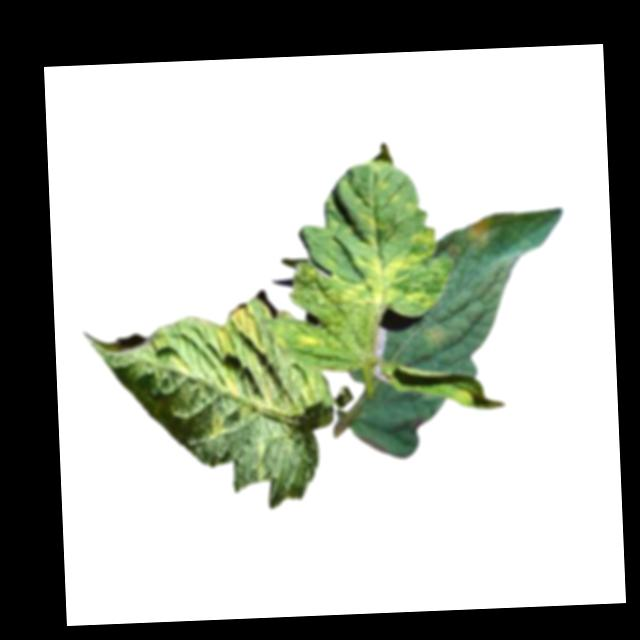Leaf_Mold: (325, 152, 449, 319), (210, 300, 286, 401), (463, 214, 492, 247), (292, 324, 326, 350), (422, 318, 450, 347), (207, 408, 228, 437)
